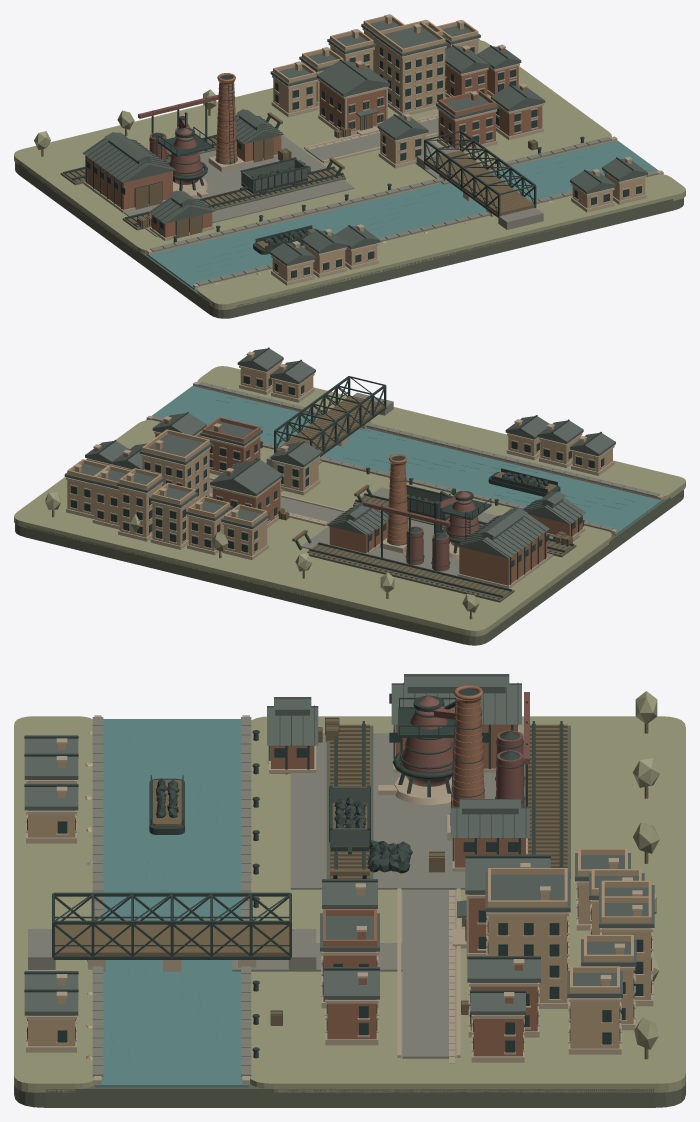
Rendered from pittsburgh-1892.glb.
3 renders of one model, top to bottom at view 1: azimuth 30°, elevation 25°; view 2: azimuth 150°, elevation 25°; view 3: azimuth 270°, elevation 25°, orthographic. The views are drawn at different scales.
Visible parts, largest first — view 1: environment-ground, environment-roof, environment-water, environment-paleBrick, environment-paving, environment-soil, environment-stone, environment-brick, environment-iron, environment-glass, environment-wood, bridge-iron (+10 smaller); view 2: environment-ground, environment-roof, environment-water, environment-paleBrick, environment-soil, environment-stone, environment-paving, environment-brick, environment-iron, environment-glass, bridge-iron, environment-wood (+8 smaller); view 3: environment-ground, environment-water, environment-paving, environment-roof, environment-paleBrick, environment-soil, environment-stone, environment-wood, environment-iron, environment-brick, bridge-iron, bridge-wood (+11 smaller).
Boxes of the visible parts, x1=… form: environment-ground: x1=14, y1=40, x2=685, y2=309; environment-roof: x1=82, y1=20, x2=647, y2=266; environment-water: x1=146, y1=140, x2=658, y2=290; environment-paleBrick: x1=272, y1=14, x2=645, y2=281; environment-paving: x1=83, y1=117, x2=658, y2=286; environment-soil: x1=15, y1=137, x2=683, y2=318; environment-stone: x1=83, y1=14, x2=663, y2=289; environment-brick: x1=85, y1=48, x2=542, y2=237; environment-iron: x1=63, y1=45, x2=633, y2=254; environment-glass: x1=87, y1=47, x2=641, y2=278; environment-wood: x1=41, y1=109, x2=537, y2=249; bridge-iron: x1=424, y1=130, x2=536, y2=217; environment-ground: x1=14, y1=366, x2=685, y2=636; environment-roof: x1=64, y1=348, x2=615, y2=558; environment-water: x1=151, y1=386, x2=663, y2=535; environment-paleBrick: x1=67, y1=354, x2=612, y2=555; environment-soil: x1=15, y1=490, x2=683, y2=645; environment-stone: x1=66, y1=351, x2=663, y2=588; environment-paving: x1=152, y1=382, x2=660, y2=585; environment-brick: x1=89, y1=417, x2=582, y2=585; environment-iron: x1=97, y1=347, x2=601, y2=597; environment-glass: x1=71, y1=376, x2=604, y2=567; bridge-iron: x1=274, y1=376, x2=386, y2=456; environment-wood: x1=52, y1=472, x2=572, y2=619; environment-ground: x1=14, y1=691, x2=685, y2=1092; environment-water: x1=95, y1=719, x2=249, y2=1087; environment-paving: x1=28, y1=717, x2=524, y2=1076; environment-roof: x1=24, y1=674, x2=654, y2=1015; environment-paleBrick: x1=28, y1=744, x2=651, y2=1048; environment-soil: x1=14, y1=725, x2=685, y2=1107; environment-stone: x1=26, y1=715, x2=653, y2=1086; environment-wood: x1=153, y1=717, x2=648, y2=1059; environment-iron: x1=24, y1=682, x2=563, y2=1058; environment-brick: x1=271, y1=724, x2=537, y2=1056; bridge-iron: x1=52, y1=892, x2=292, y2=959; bridge-wood: x1=55, y1=924, x2=289, y2=955.
Bounding box in the file's own units: 44 × 9.29 × 34.
